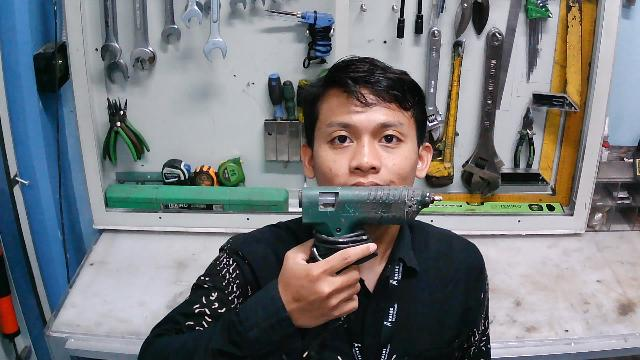gun_lem: (295, 182, 445, 282)
